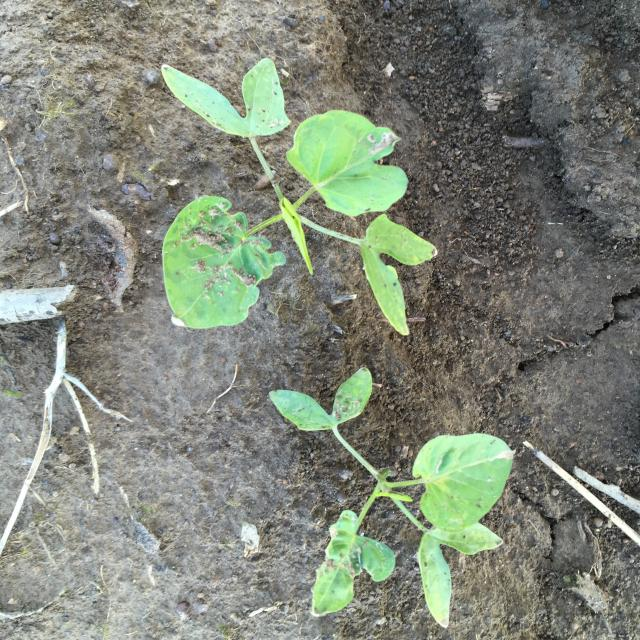MorningGlory: (161, 58, 437, 335), (269, 368, 513, 628)
